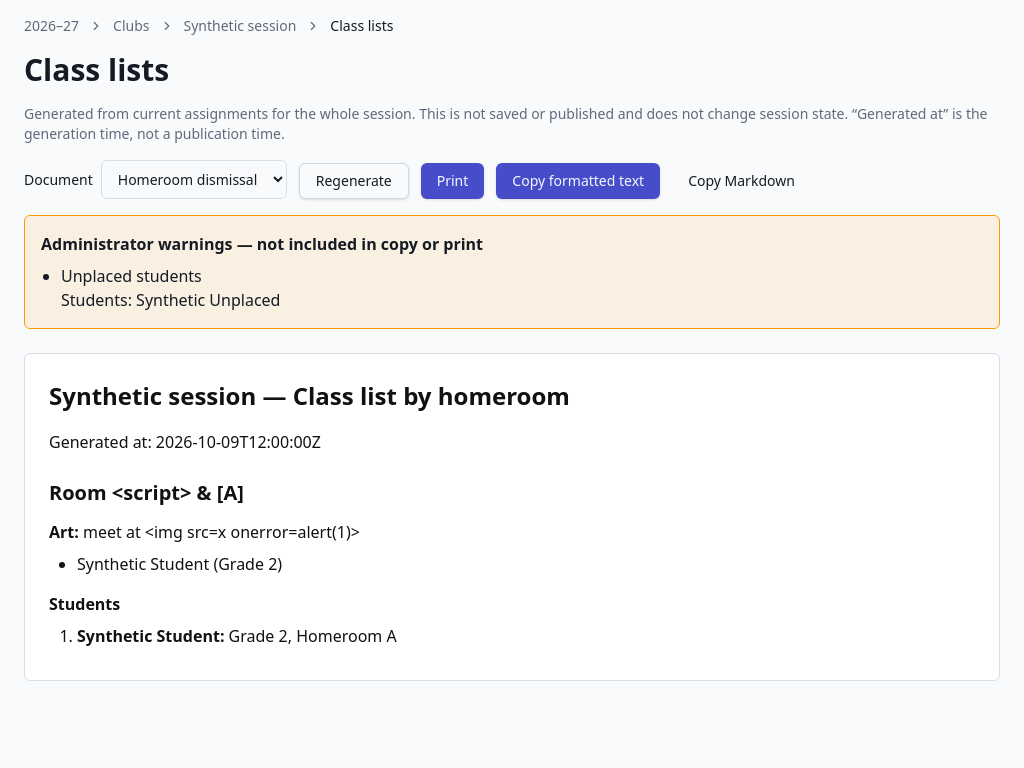
Test case: session artifacts › copies both HTML and plain text, with Markdown as a separate action
This screenshot has width=1024, height=768.
Expected: the element named "Document preview" is shown, [24,353,1000,681]
Click the button "Copy formatted text" at (578, 181), box [496,163,660,199]
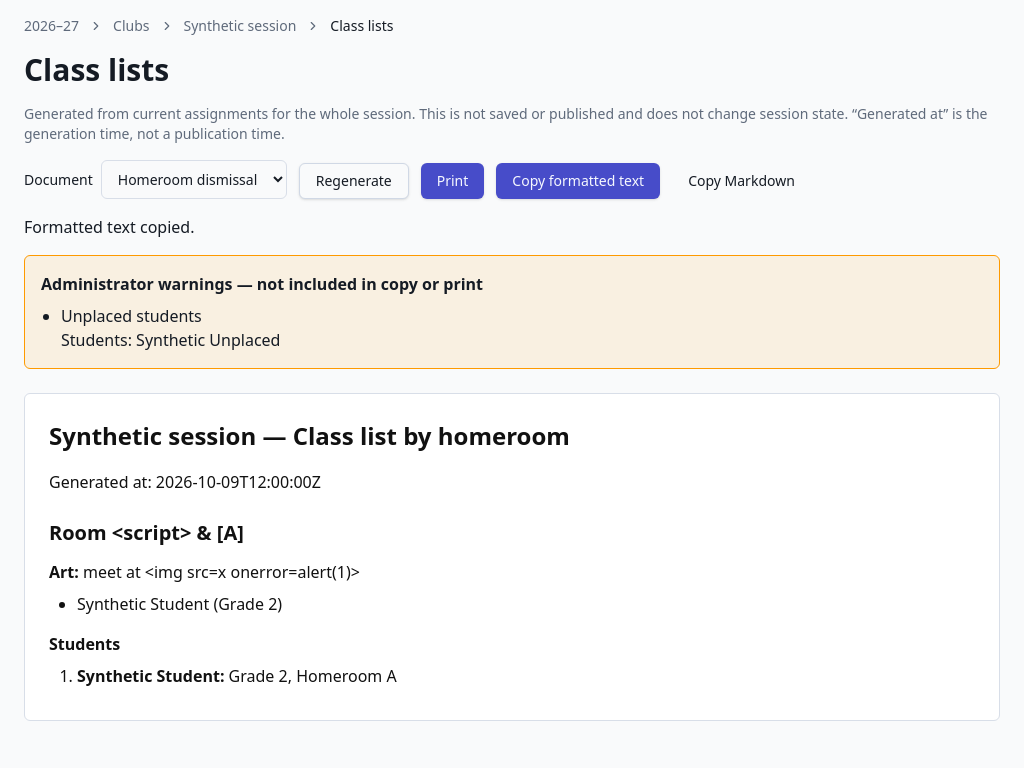
Now the text "Formatted text copied." is shown, box [24,216,194,238]
Click the button "Copy Markdown" at (741, 181), box [672,163,811,199]
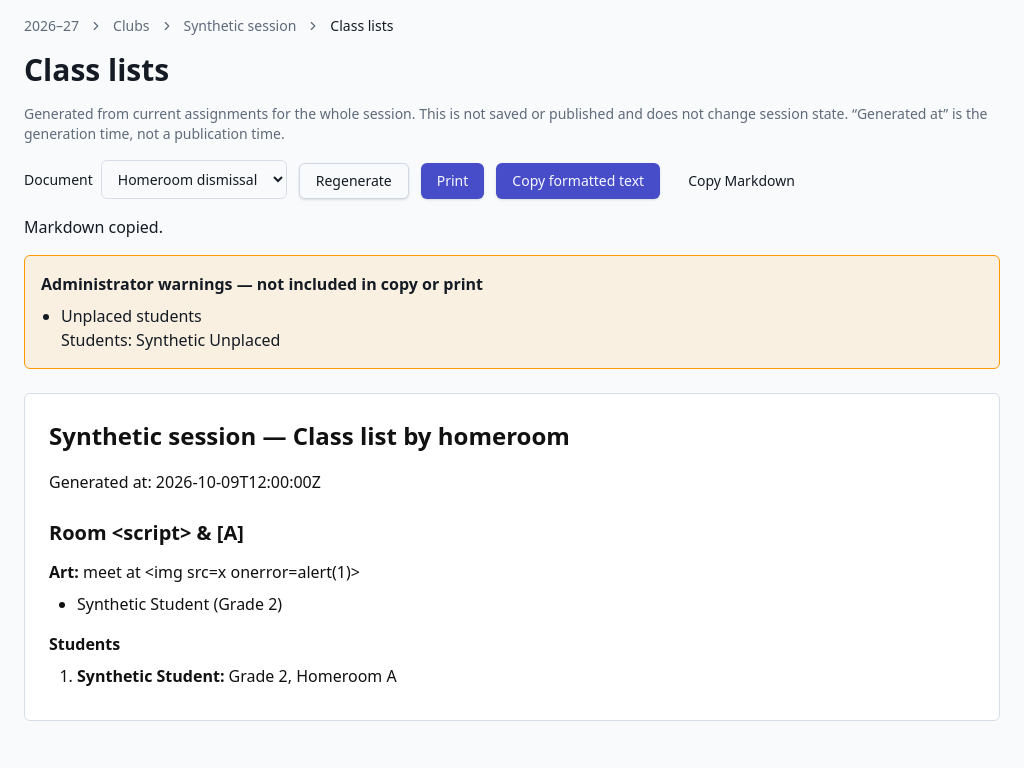
Now the text "Markdown copied." is shown, box [24,216,163,238]
